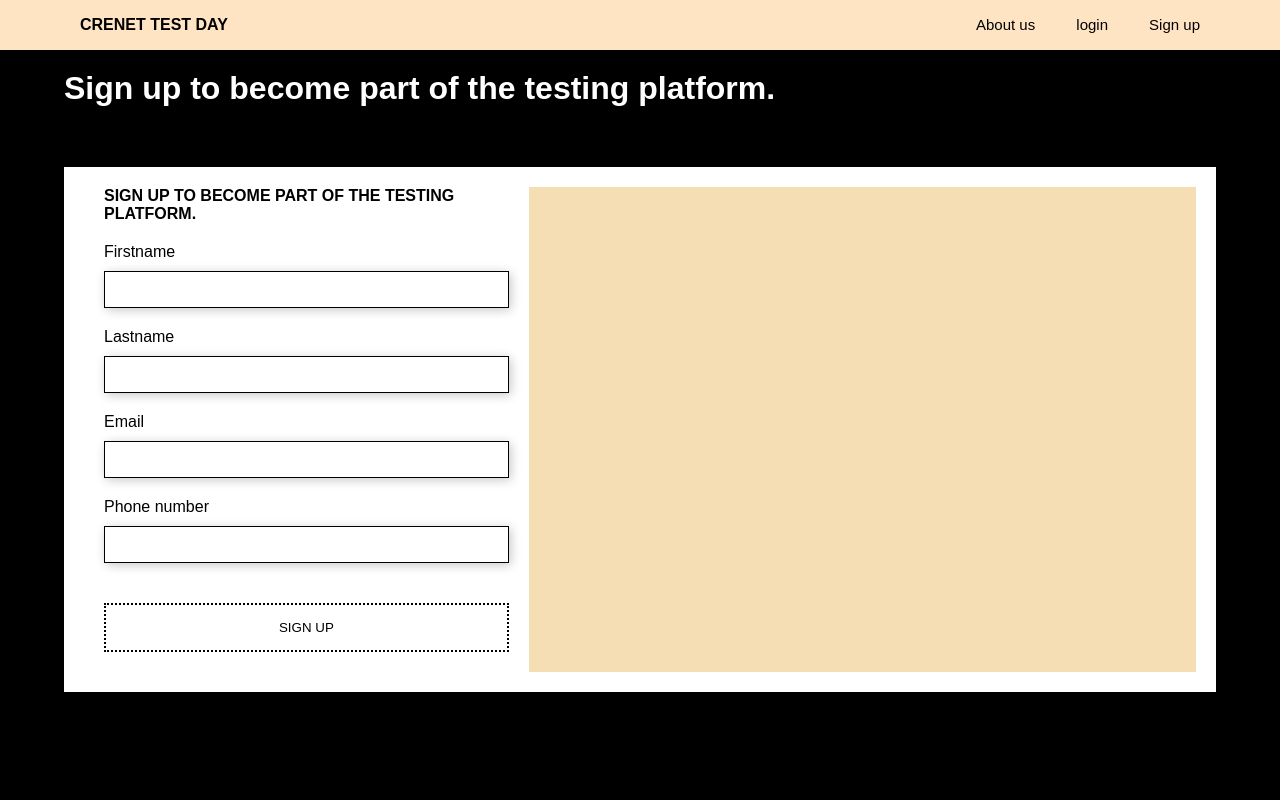
Test case: Login Test › Fill The form › Try to sign up and fail
In the field with id "firstname": (307, 290) [104, 271, 509, 308], type "Sola "
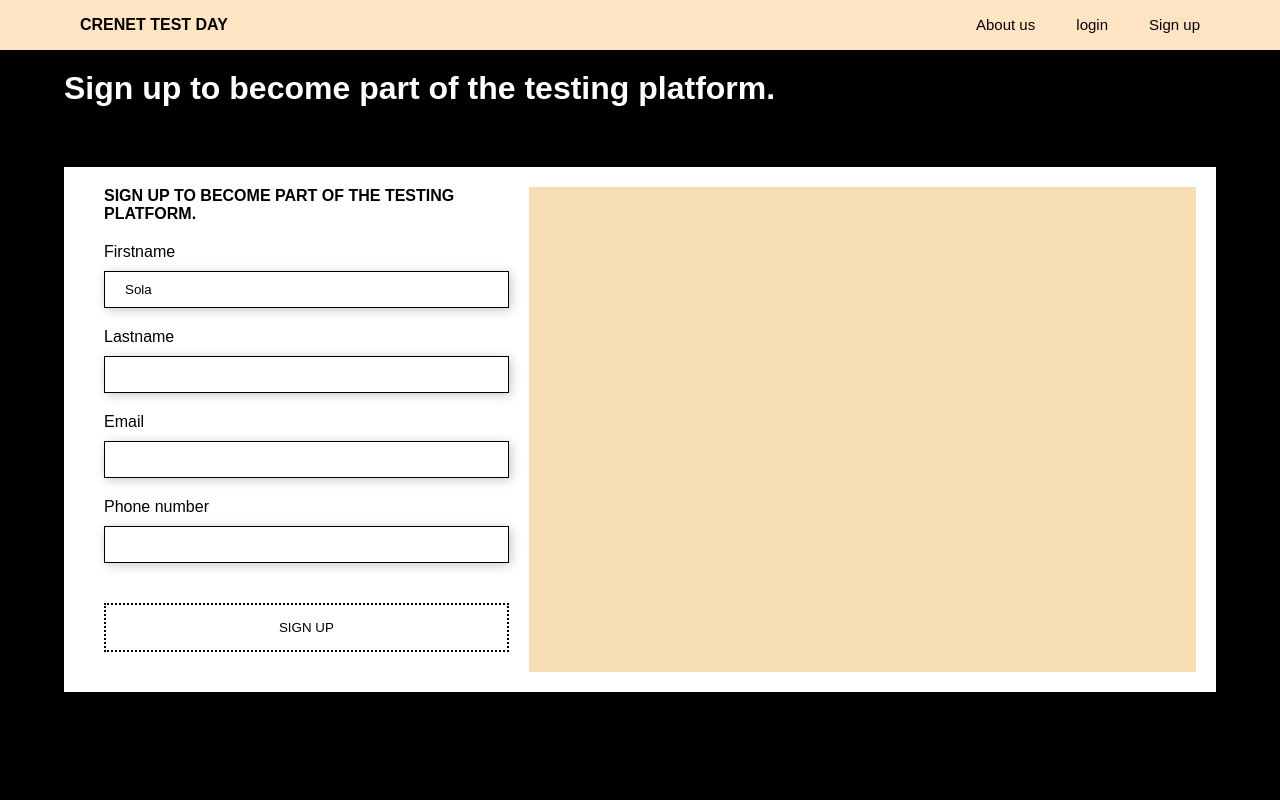
In the field with id "lastname": (307, 375) [104, 356, 509, 393], type "Adebayo"
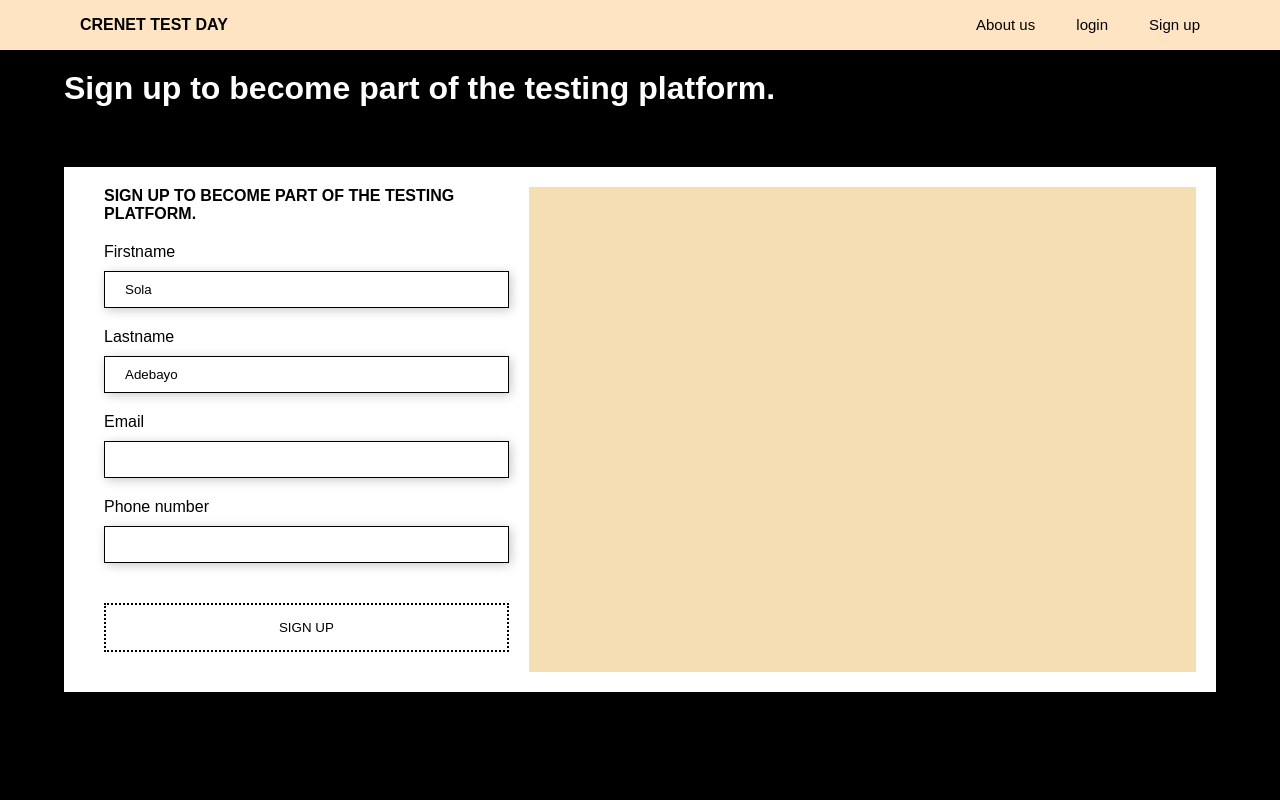
In the field with id "email": (307, 460) [104, 441, 509, 478], type "sola@crenettechlabs.com"
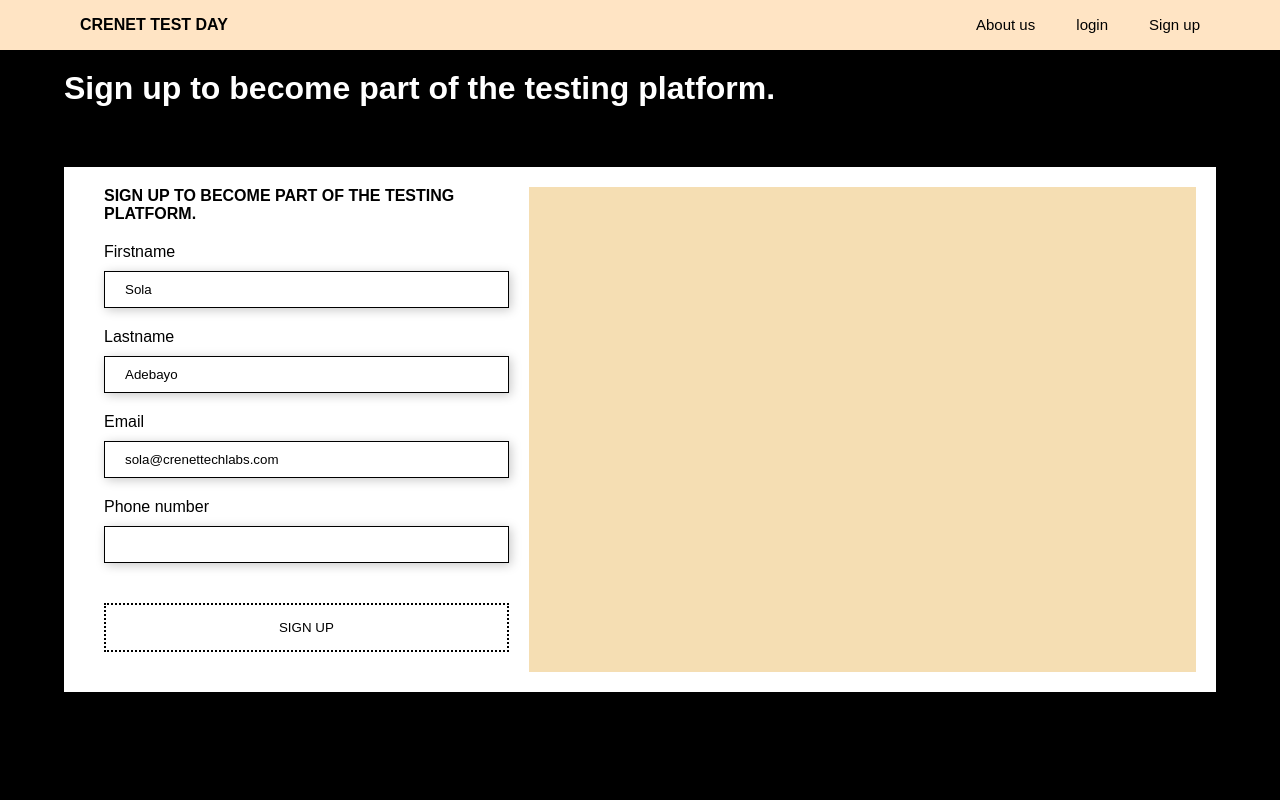
Click the button with class "btn-black": (307, 628) [104, 603, 509, 652]
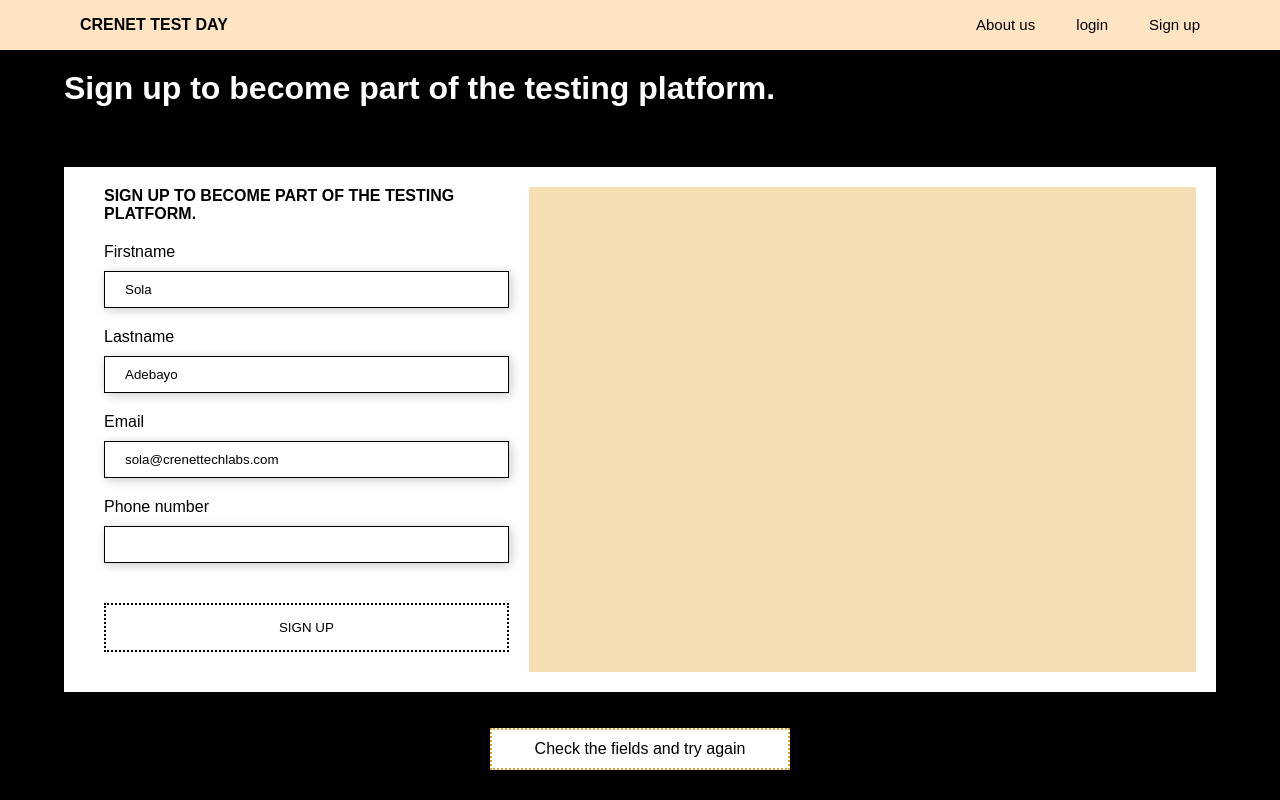
Now the text with id "snackbar" reads "Check the fields and try again", box [490, 728, 790, 770]
